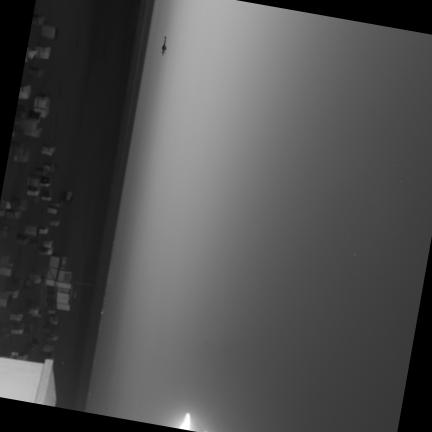Shahed: (161, 36, 166, 55)
